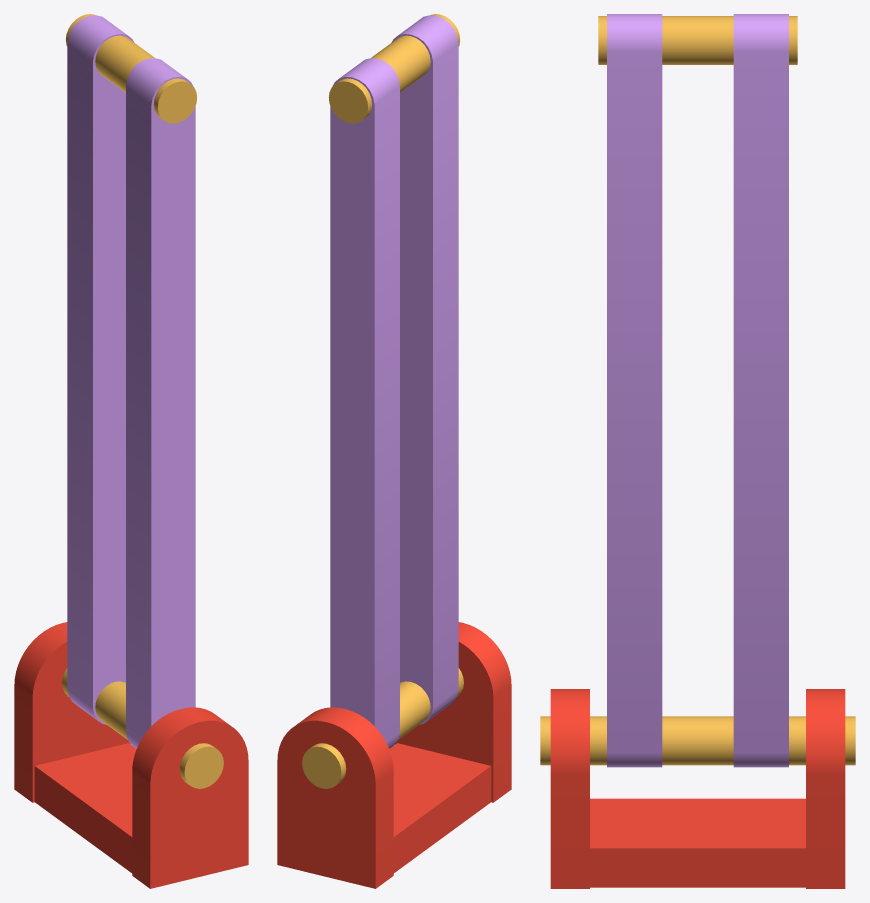
The model's file is Crane A Medium.fbx.
3 views of the same model, side by side, from view 1: azimuth 30°, elevation 25°; view 2: azimuth 150°, elevation 25°; view 3: azimuth 270°, elevation 25° (orthographic). The views are drawn at different scales.
Parts seen in each view (by area): view 1: Crane Medium.003, Crane Medium, Crane Medium.002, Crane Medium.001, Crane Medium.005; view 2: Crane Medium.003, Crane Medium.002, Crane Medium, Crane Medium.001, Crane Medium.005; view 3: Crane Medium.003, Crane Medium.001, Crane Medium.002, Crane Medium, Crane Medium.005.
Part boxes in pixels (x1,y1,x2,y2): Crane Medium.003: [66, 14, 197, 748]; Crane Medium: [132, 707, 248, 888]; Crane Medium.002: [14, 622, 129, 802]; Crane Medium.001: [34, 743, 136, 873]; Crane Medium.005: [62, 668, 223, 788]; Crane Medium.003: [328, 14, 459, 748]; Crane Medium.002: [277, 707, 393, 888]; Crane Medium: [396, 622, 511, 802]; Crane Medium.001: [389, 743, 491, 873]; Crane Medium.005: [302, 668, 463, 788]; Crane Medium.003: [598, 14, 797, 767]; Crane Medium.001: [590, 798, 805, 887]; Crane Medium.002: [806, 689, 845, 888]; Crane Medium: [550, 689, 589, 888]; Crane Medium.005: [540, 716, 855, 765].
Size of the model in its own units: 53.12 by 403 by 136.
